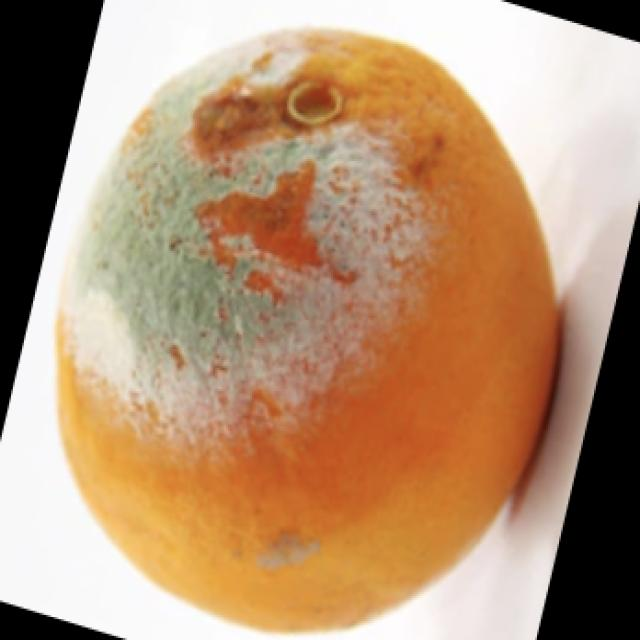sedikit_busuk: (56, 25, 553, 631)
